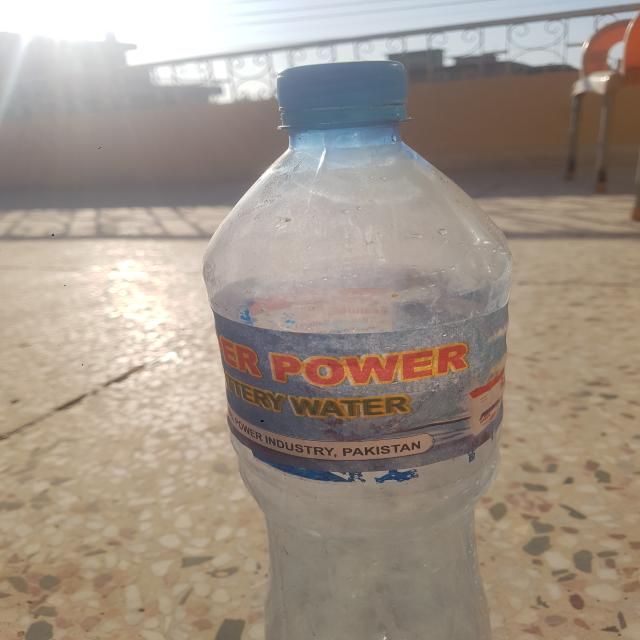general: (201, 60, 513, 638)
